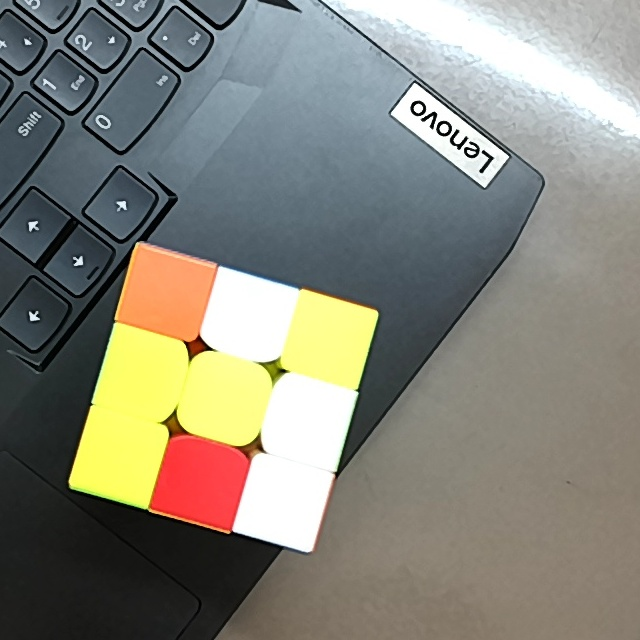tile: (191, 368, 258, 431), (133, 263, 198, 324), (88, 426, 151, 486), (254, 471, 315, 532), (170, 453, 233, 511), (114, 341, 171, 405), (281, 389, 337, 454), (216, 288, 278, 346), (299, 310, 358, 368)
